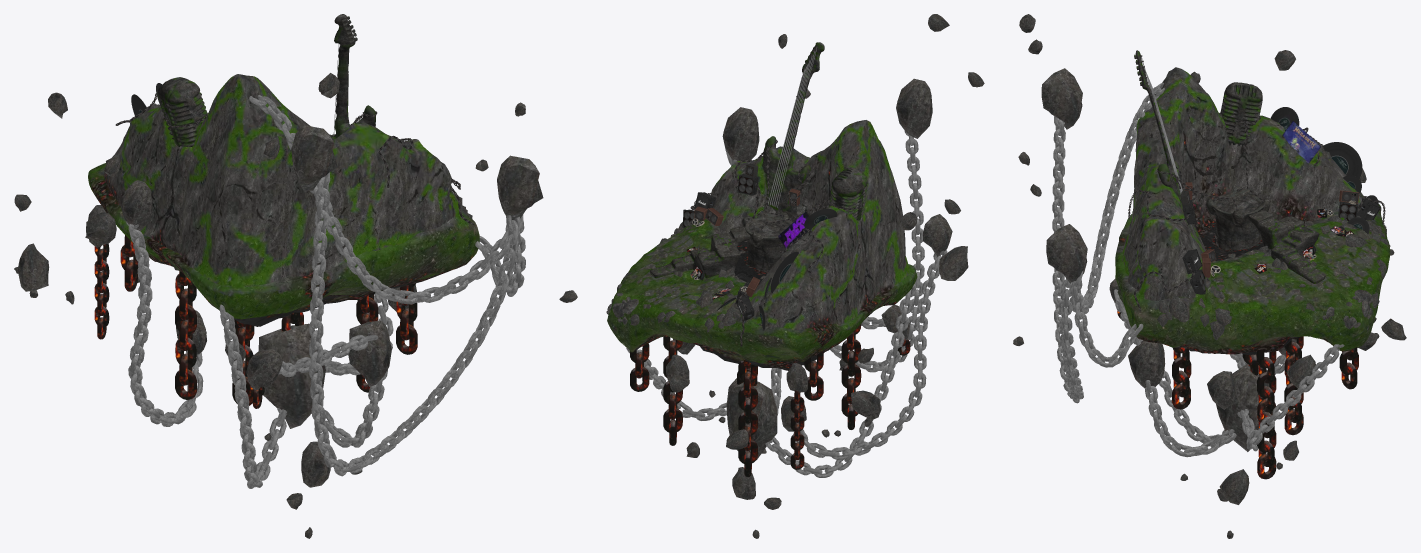
File: compressed_1738341179398_metal_world_complete.glb
3 views of the same model, side by side, from view 1: azimuth 30°, elevation 25°; view 2: azimuth 150°, elevation 25°; view 3: azimuth 270°, elevation 25° (orthographic). The views are drawn at different scales.
Visible parts, largest first — view 1: terrain_lp.001; view 2: terrain_lp.001; view 3: terrain_lp.001.
Boxes of the visible parts, x1,y1,x2,y2 form: terrain_lp.001: (14,14,577,538); terrain_lp.001: (606,14,984,538); terrain_lp.001: (1013,14,1406,538).
Size of the model in its own units: 22.35 by 32.36 by 23.84.
4 materials, 4 textured.
